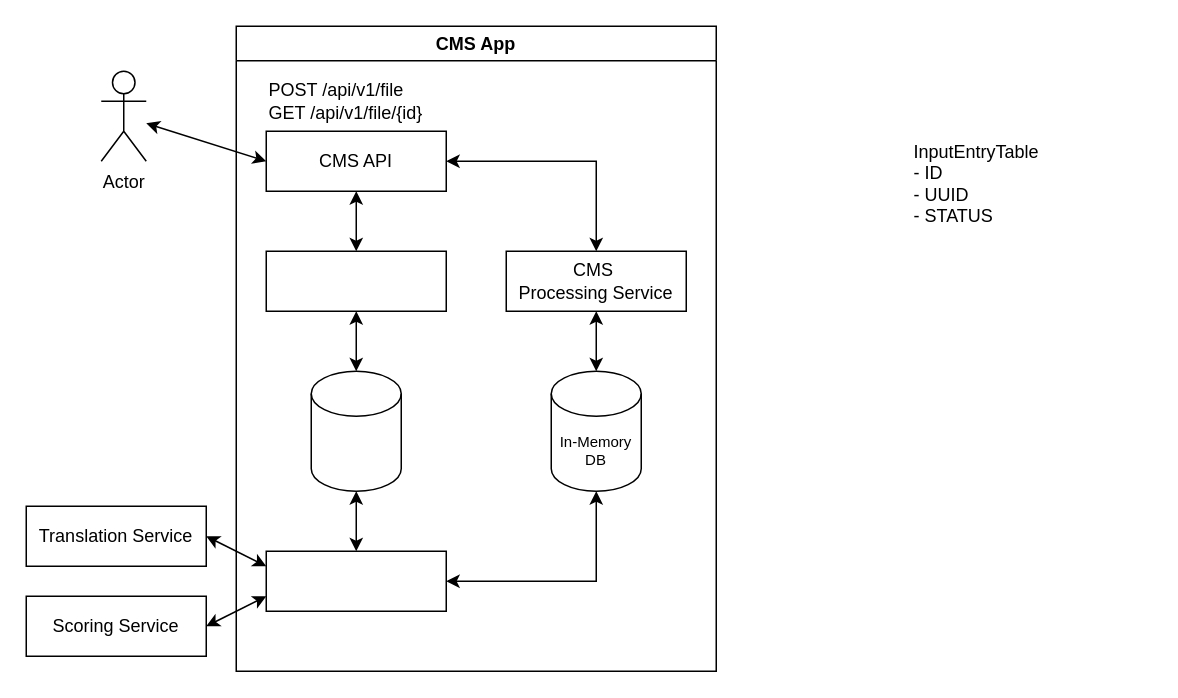
The diagram is 1178 pixels wide and 698 high, and some of its shapes have lost their labels. Each missing label, with the centre of its shape:
"CMS CSV Processor" goes at point 355,580.
"CMS Storage Service" goes at point 355,280.
"Local Storage" goes at point 355,430.
